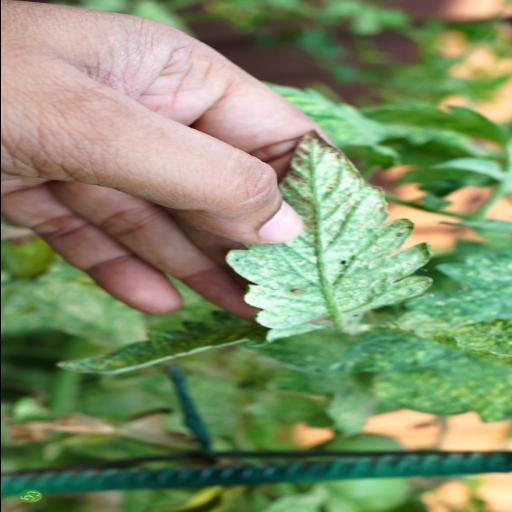disease_tomato: (222, 130, 434, 344), (50, 308, 264, 378)
